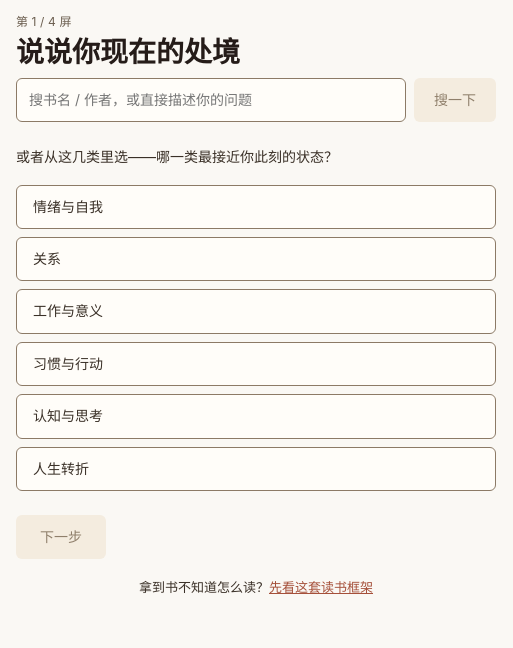
QuizView 四屏流 › 标签选择上限 3 项：第 4 项不可再点
The image size is (513, 648).
Click the button "情绪与自我" at (68, 206), box [16,185,496,229]
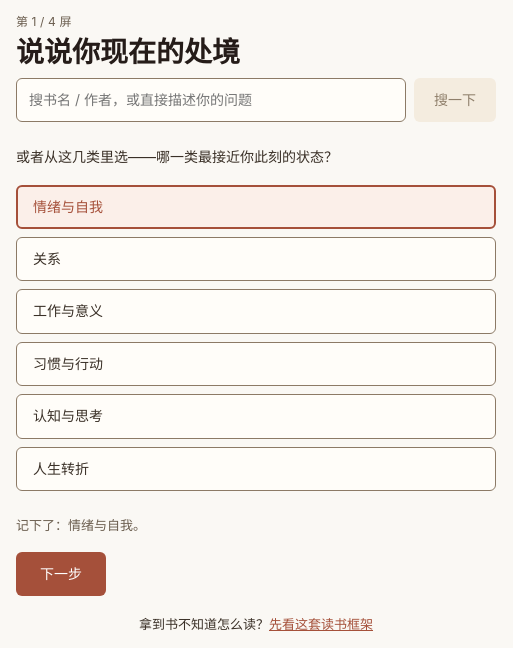
Click the button "下一步" at (61, 574), box [16,552,106,596]
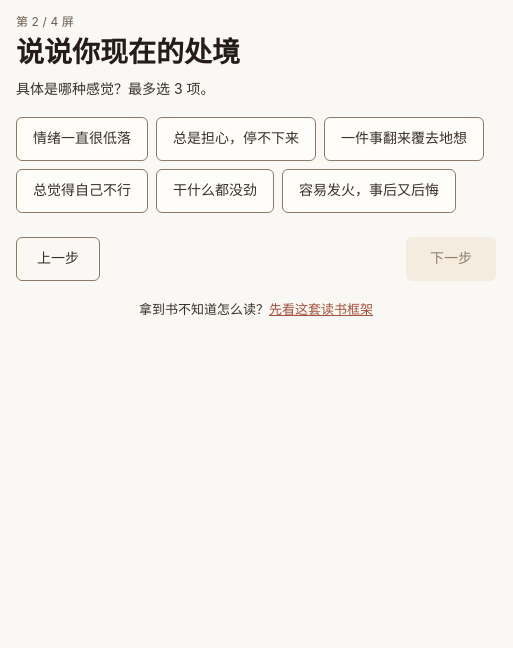
Click the button "情绪一直很低落" at (82, 139), box [16,117,148,161]
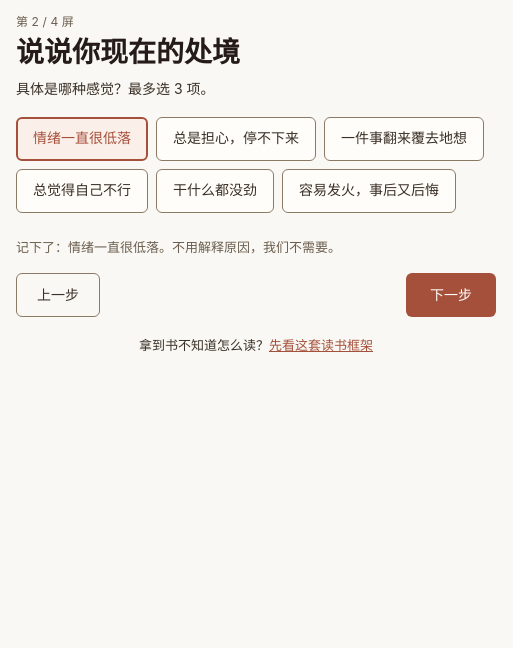
Click the button "总是担心，停不下来" at (236, 139), box [156,117,316,161]
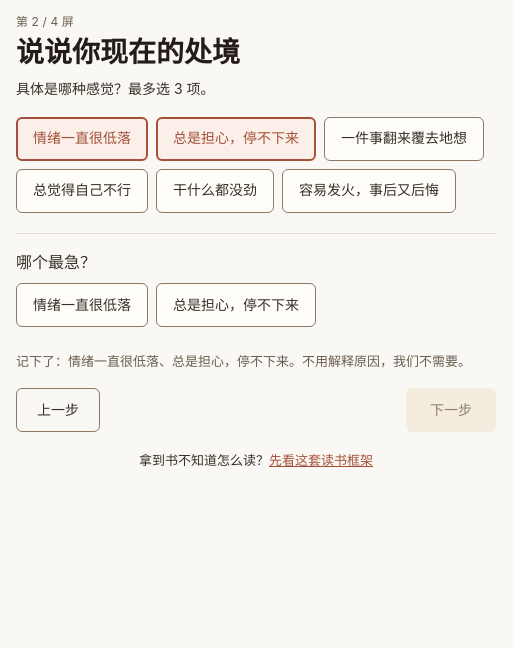
Click the button "一件事翻来覆去地想" at (404, 139), box [324,117,484,161]
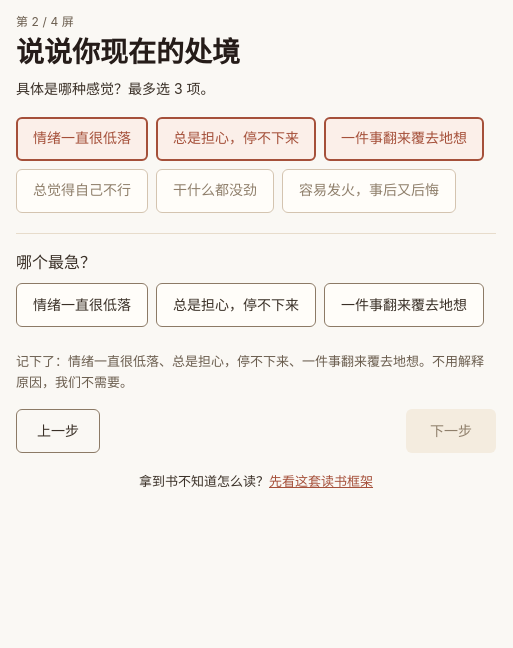
expect the button "总觉得自己不行" is disabled: met, box [16,169,148,213]
